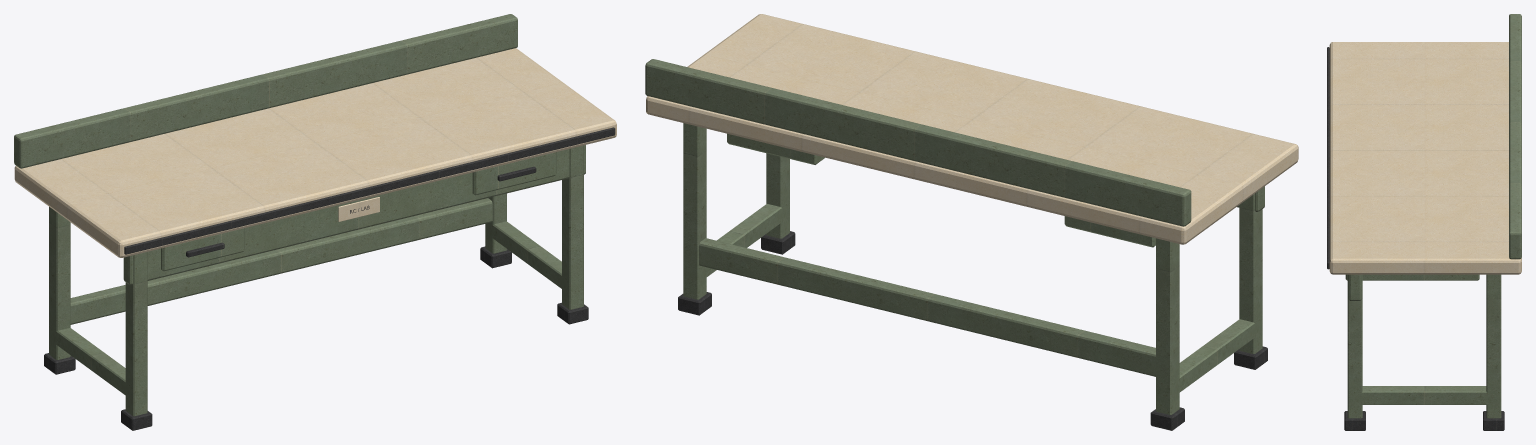
Rendered from lab_bench.glb.
3 renders of one model, left to right at view 1: azimuth 30°, elevation 25°; view 2: azimuth 150°, elevation 25°; view 3: azimuth 270°, elevation 25°, orthographic. The views are drawn at different scales.
Parts seen in each view (by area): view 1: Ivory laboratory laminate, Desaturated green painted steel, Dark rubber feet; view 2: Desaturated green painted steel, Ivory laboratory laminate, Dark rubber feet; view 3: Ivory laboratory laminate, Desaturated green painted steel, Dark rubber feet.
Part boxes in pixels (bbox=[...]): Ivory laboratory laminate: bbox=[14, 48, 616, 257]; Desaturated green painted steel: bbox=[14, 14, 585, 416]; Dark rubber feet: bbox=[44, 127, 615, 430]; Desaturated green painted steel: bbox=[645, 59, 1264, 414]; Ivory laboratory laminate: bbox=[646, 14, 1298, 244]; Dark rubber feet: bbox=[678, 231, 1267, 430]; Ivory laboratory laminate: bbox=[1329, 42, 1521, 274]; Desaturated green painted steel: bbox=[1345, 14, 1521, 418]; Dark rubber feet: bbox=[1327, 47, 1504, 430].
Bounding box in the file's own units: 2.4 × 1.06 × 0.9.
3 materials, 3 textured.
